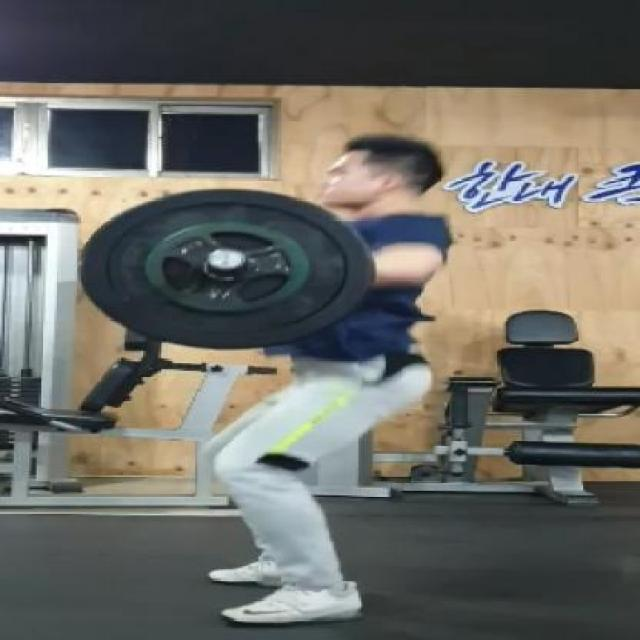Barbell: (200, 246, 252, 272)
